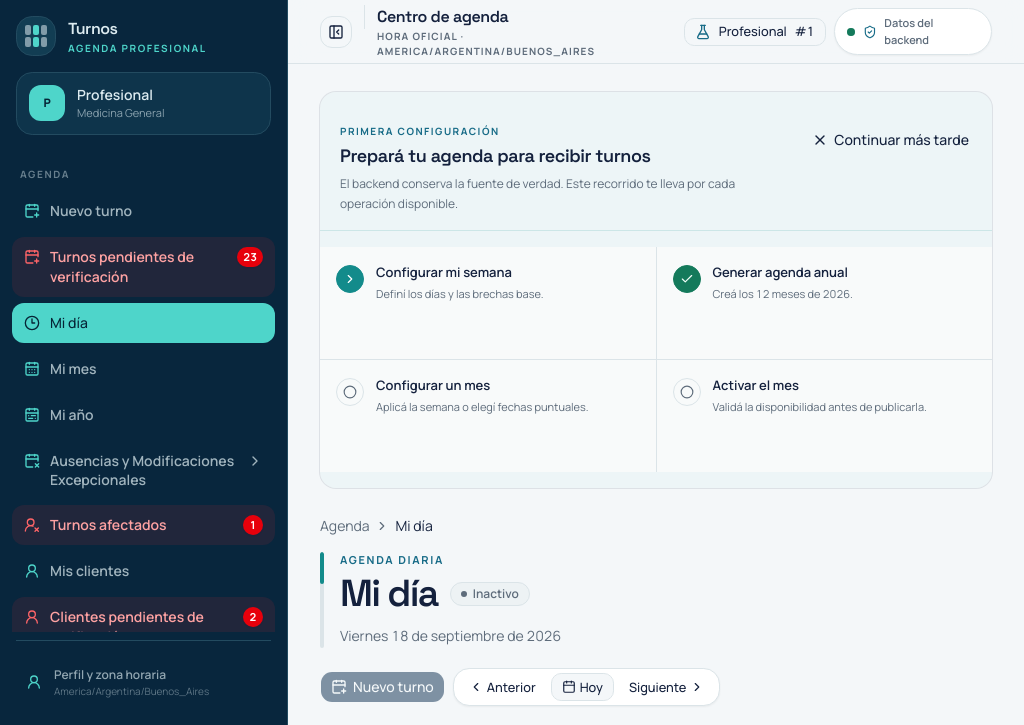
Test case: Routing & Shell Navigation › mantiene expandida la barra lateral al seleccionar otro panel
The width and height of the screenshot is (1024, 725).
Expected: the button named "Contraer barra lateral" is shown, [320, 16, 352, 48]
Click the link "Mi mes" at (60, 368), box [24, 358, 96, 378]
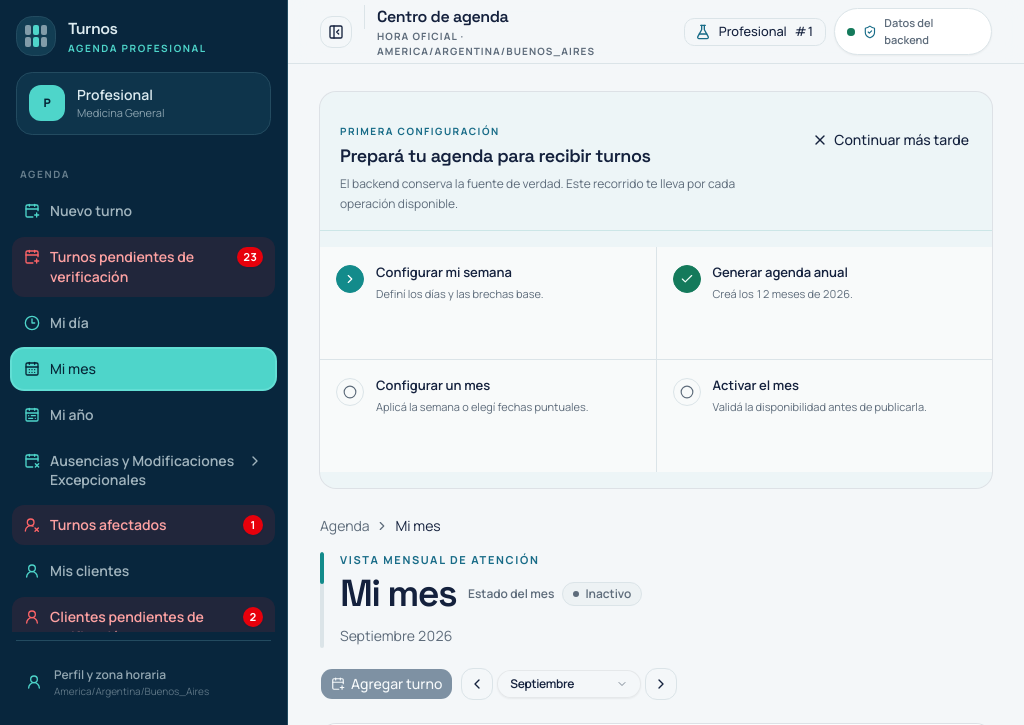
Expected: the button named "Contraer barra lateral" is shown, [320, 16, 352, 48]
Expected: the heading "Mi mes" is shown, [340, 575, 456, 612]
